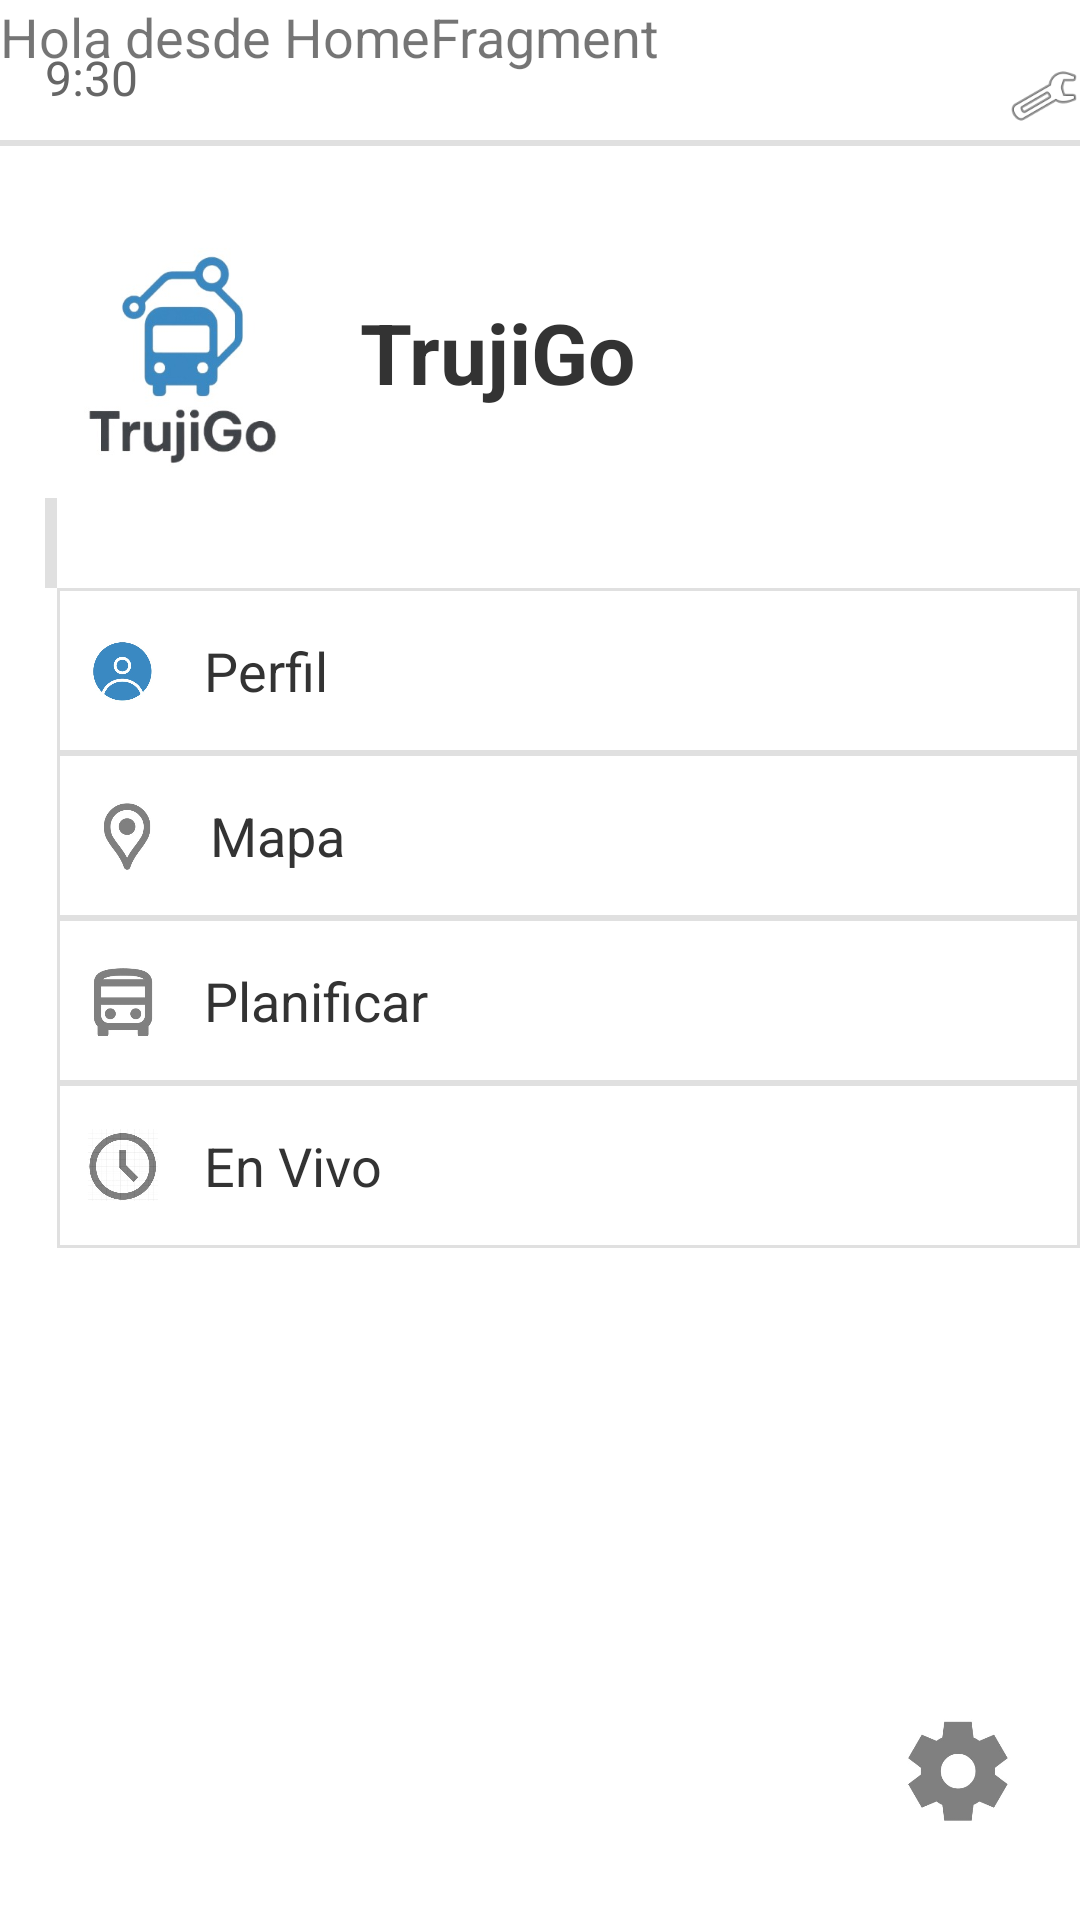

Icons on this 1080×1920 Android screen, each with the point to tap as (x=x, y=y):
de bus: (x=123, y=1002)
persona: (x=122, y=671)
reloj: (x=122, y=1166)
ruedita: (x=958, y=1771)
